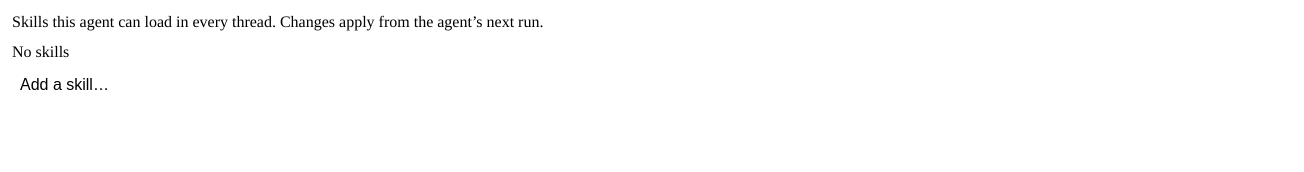
Test case: AgentSkillsSection › points at ~/.snaglet/skills inside the dropdown when there are no skills
Click the dropdown named "Add to Agent skills". click: click(652, 85)
box: [12,71,1292,99]
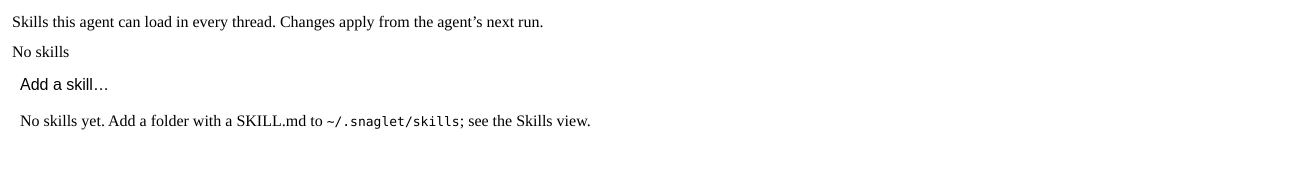
Expected: the text "No skills yet" is shown, [20,113,327,130]
Expected: the text "~/.snaglet/skills" is shown, [327,115,460,130]
